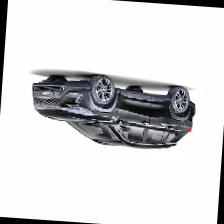NON-EV: (29, 71, 200, 153)
